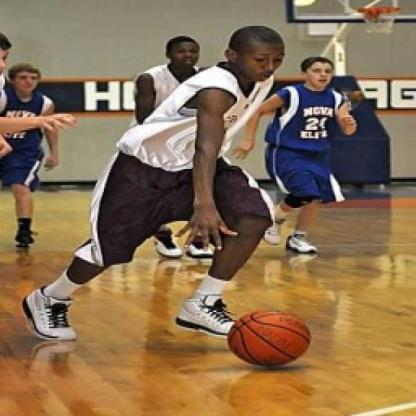basketball: (221, 304, 318, 371)
